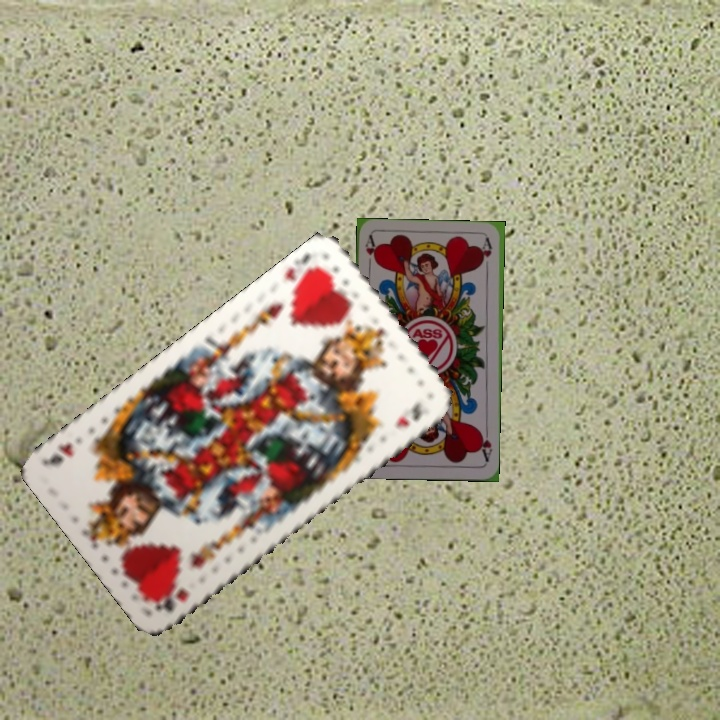HA: (475, 424, 494, 464), (361, 233, 379, 274)
HK: (280, 248, 325, 296), (151, 582, 192, 616)
